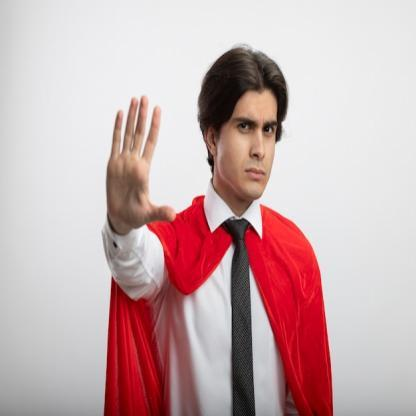stop: (105, 88, 176, 236)
